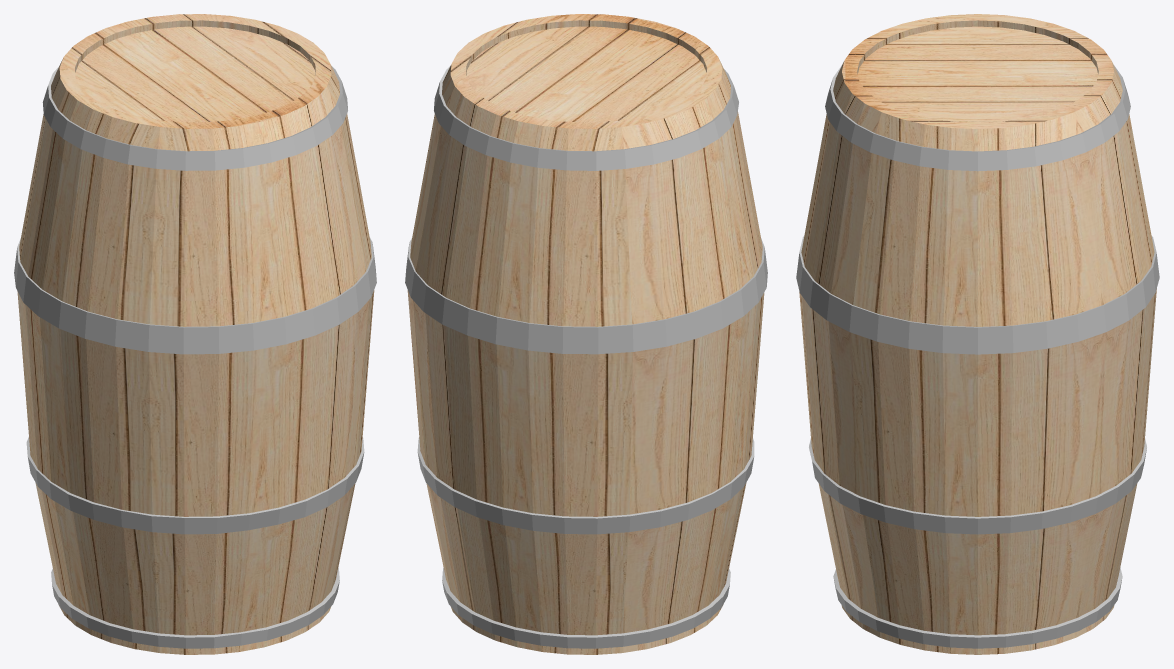
The model's file is barril.fbx.
3 views of the same model, side by side, from view 1: azimuth 30°, elevation 25°; view 2: azimuth 150°, elevation 25°; view 3: azimuth 270°, elevation 25° (orthographic).
Parts seen in each view (by area): view 1: Circle; view 2: Circle; view 3: Circle.
Boxes of the visible parts, left/top/right/bottom form: Circle: left=14, top=14, right=376, bottom=654; Circle: left=405, top=14, right=767, bottom=654; Circle: left=796, top=14, right=1159, bottom=654.
Size of the model in its own units: 263 by 418 by 263.
